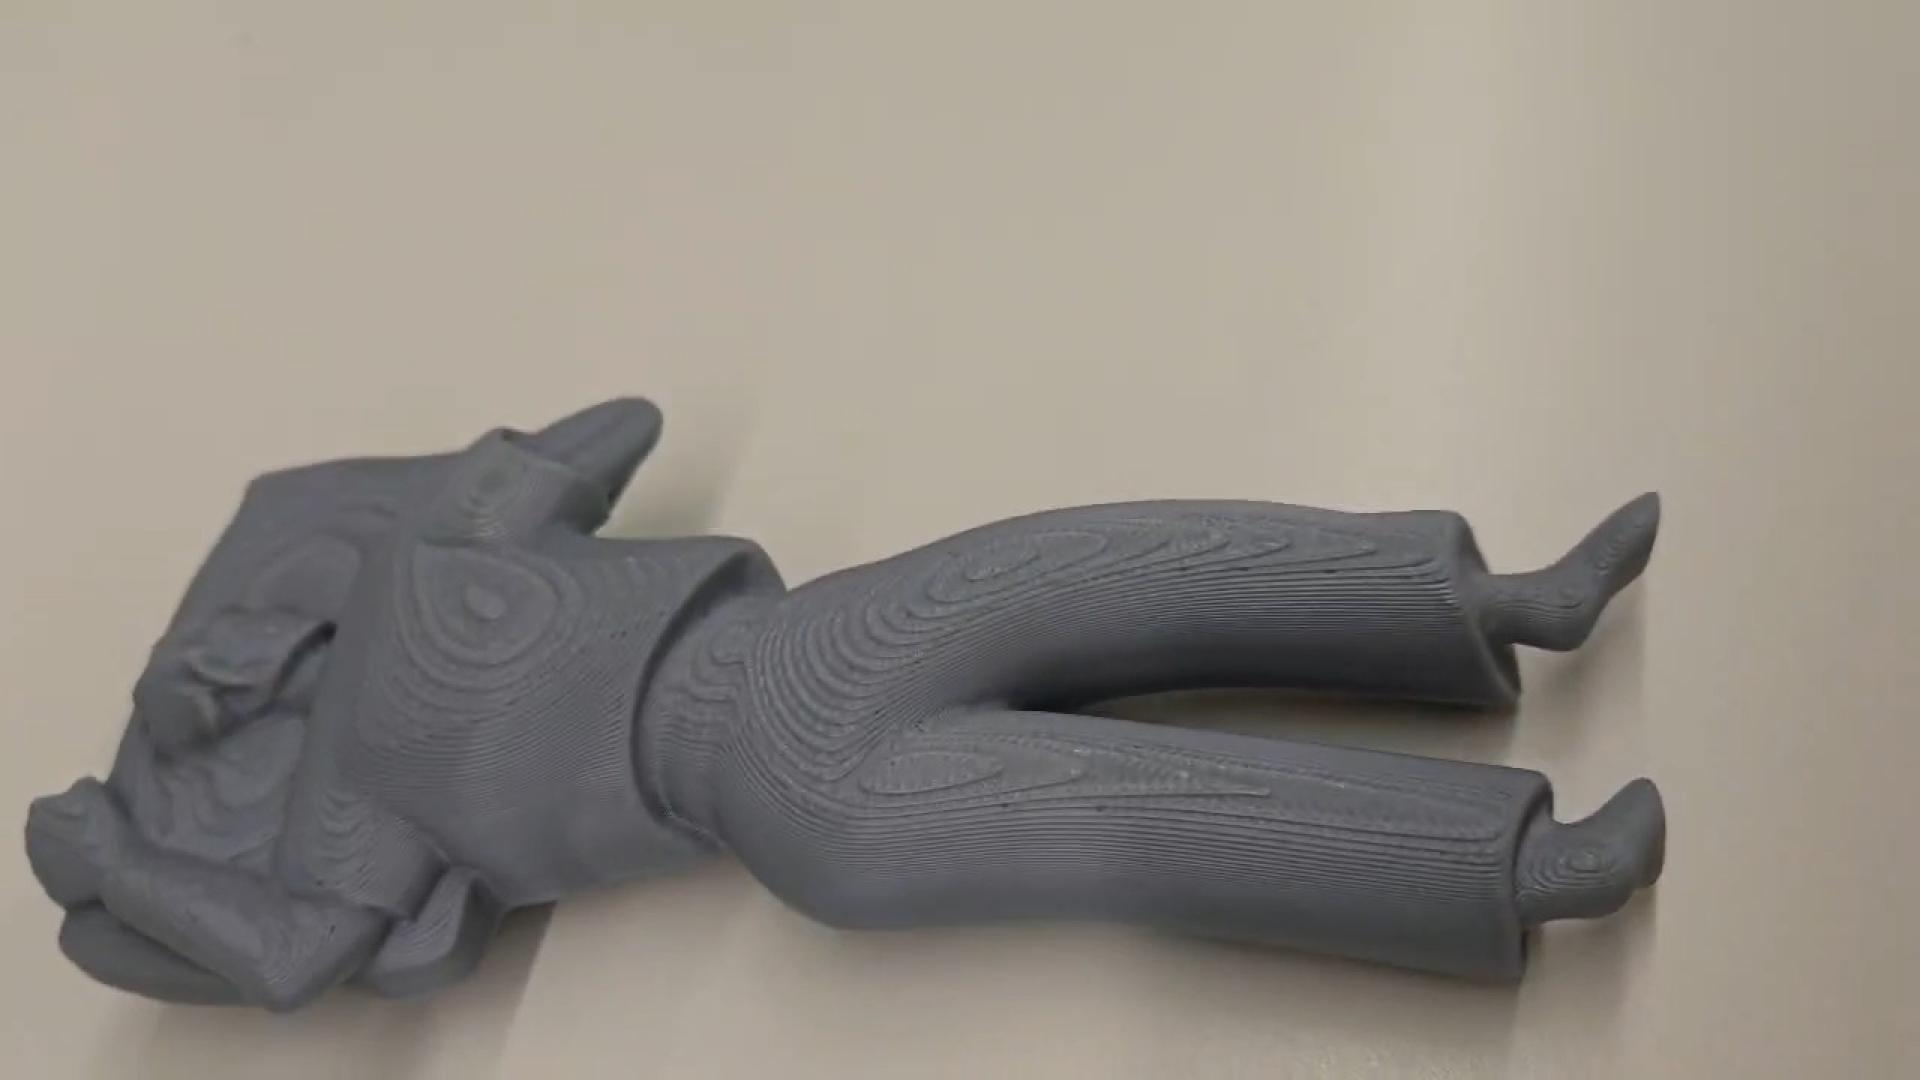Bad-style: (15, 389, 1673, 1030)
